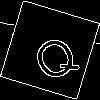Q: (25, 25, 83, 86)
